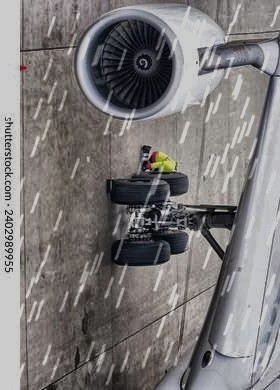chock: (106, 176, 117, 195)
wheel: (108, 177, 173, 204), (111, 238, 173, 266), (131, 171, 189, 196), (152, 229, 190, 253)
